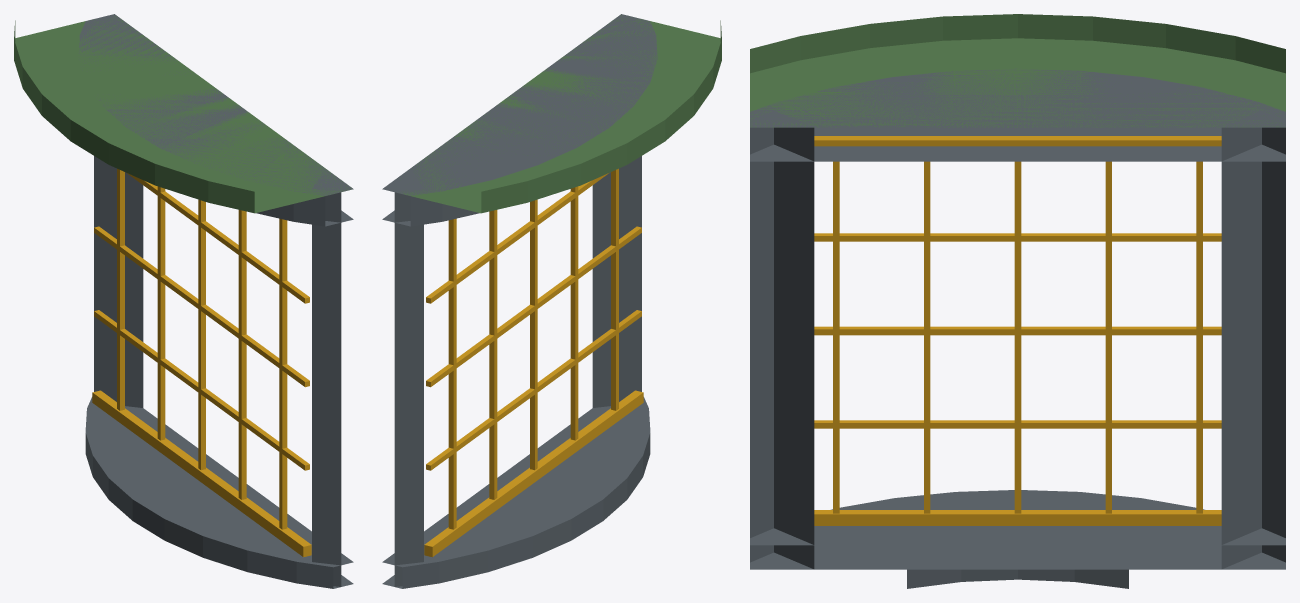
Rendered from cell_21.obj.
3 views of the same model, side by side, from view 1: azimuth 30°, elevation 25°; view 2: azimuth 150°, elevation 25°; view 3: azimuth 270°, elevation 25° (orthographic). The views are drawn at different scales.
Size of the model in its own units: 0.3944 by 1 by 1.
